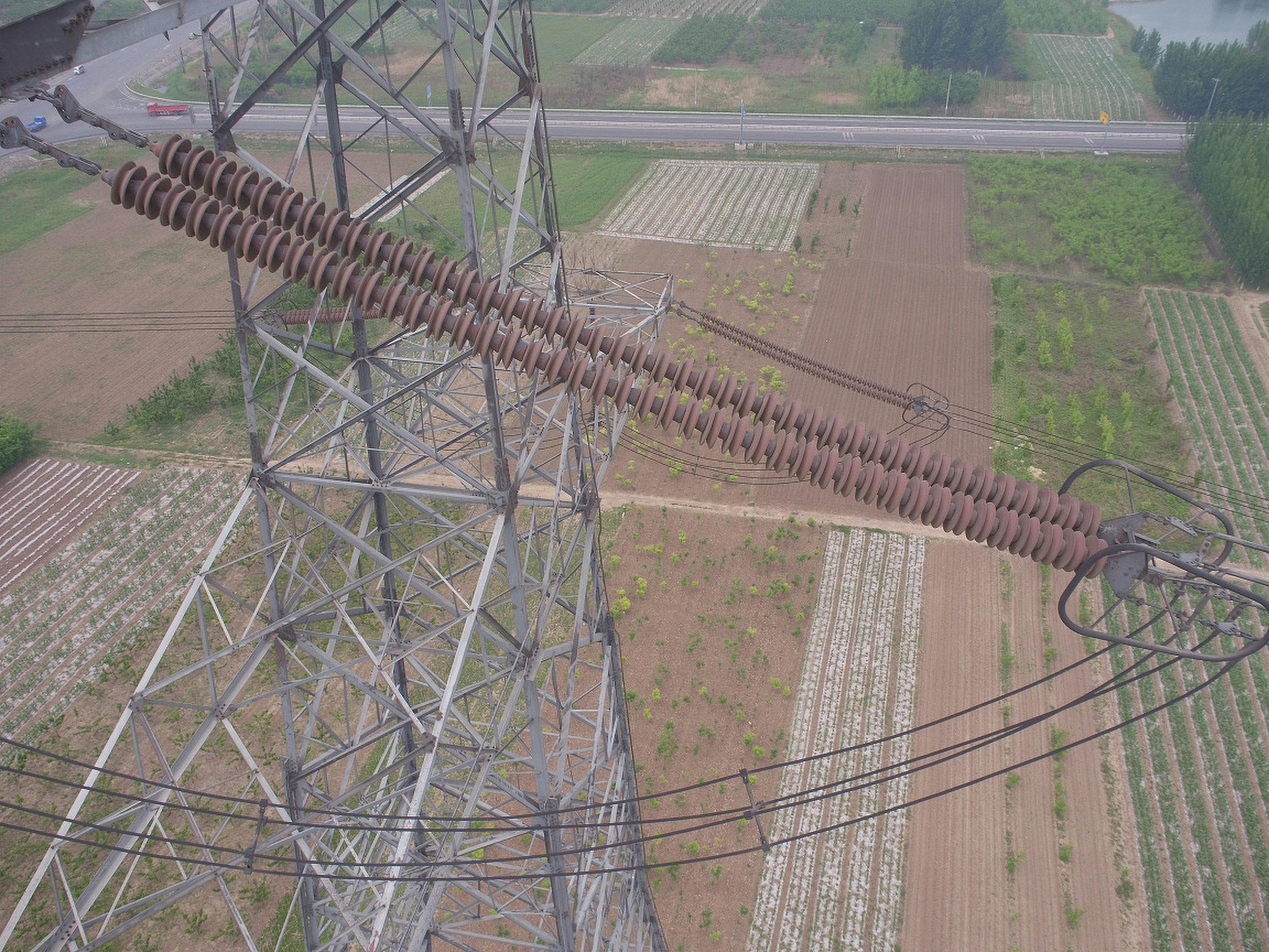insulator: (103, 127, 1117, 582), (696, 309, 915, 413), (279, 305, 392, 327)
